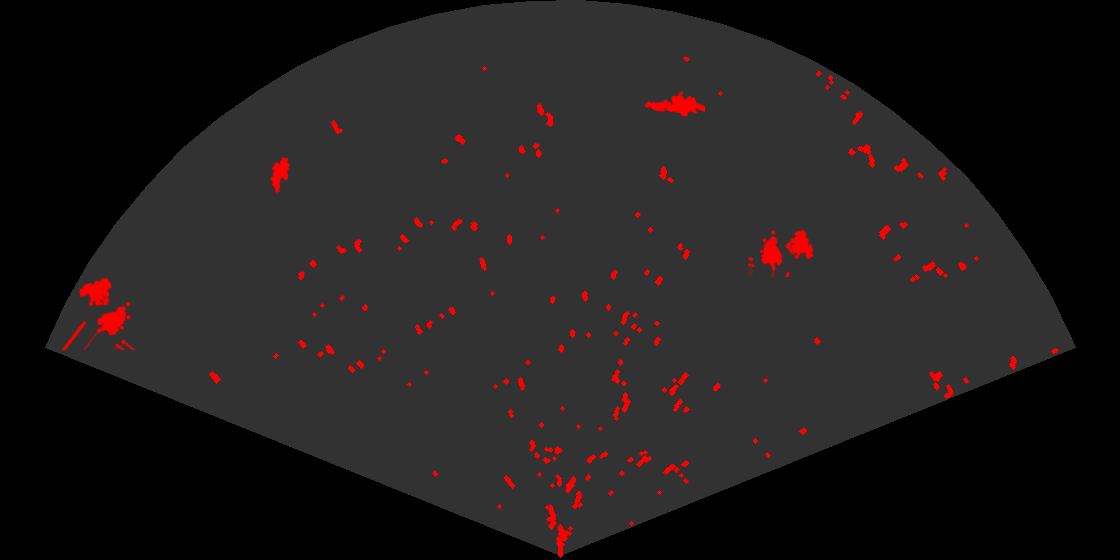AUV: (269, 155, 292, 195)
cage: (60, 276, 138, 350), (748, 228, 816, 277)
frogman: (643, 90, 705, 118)
